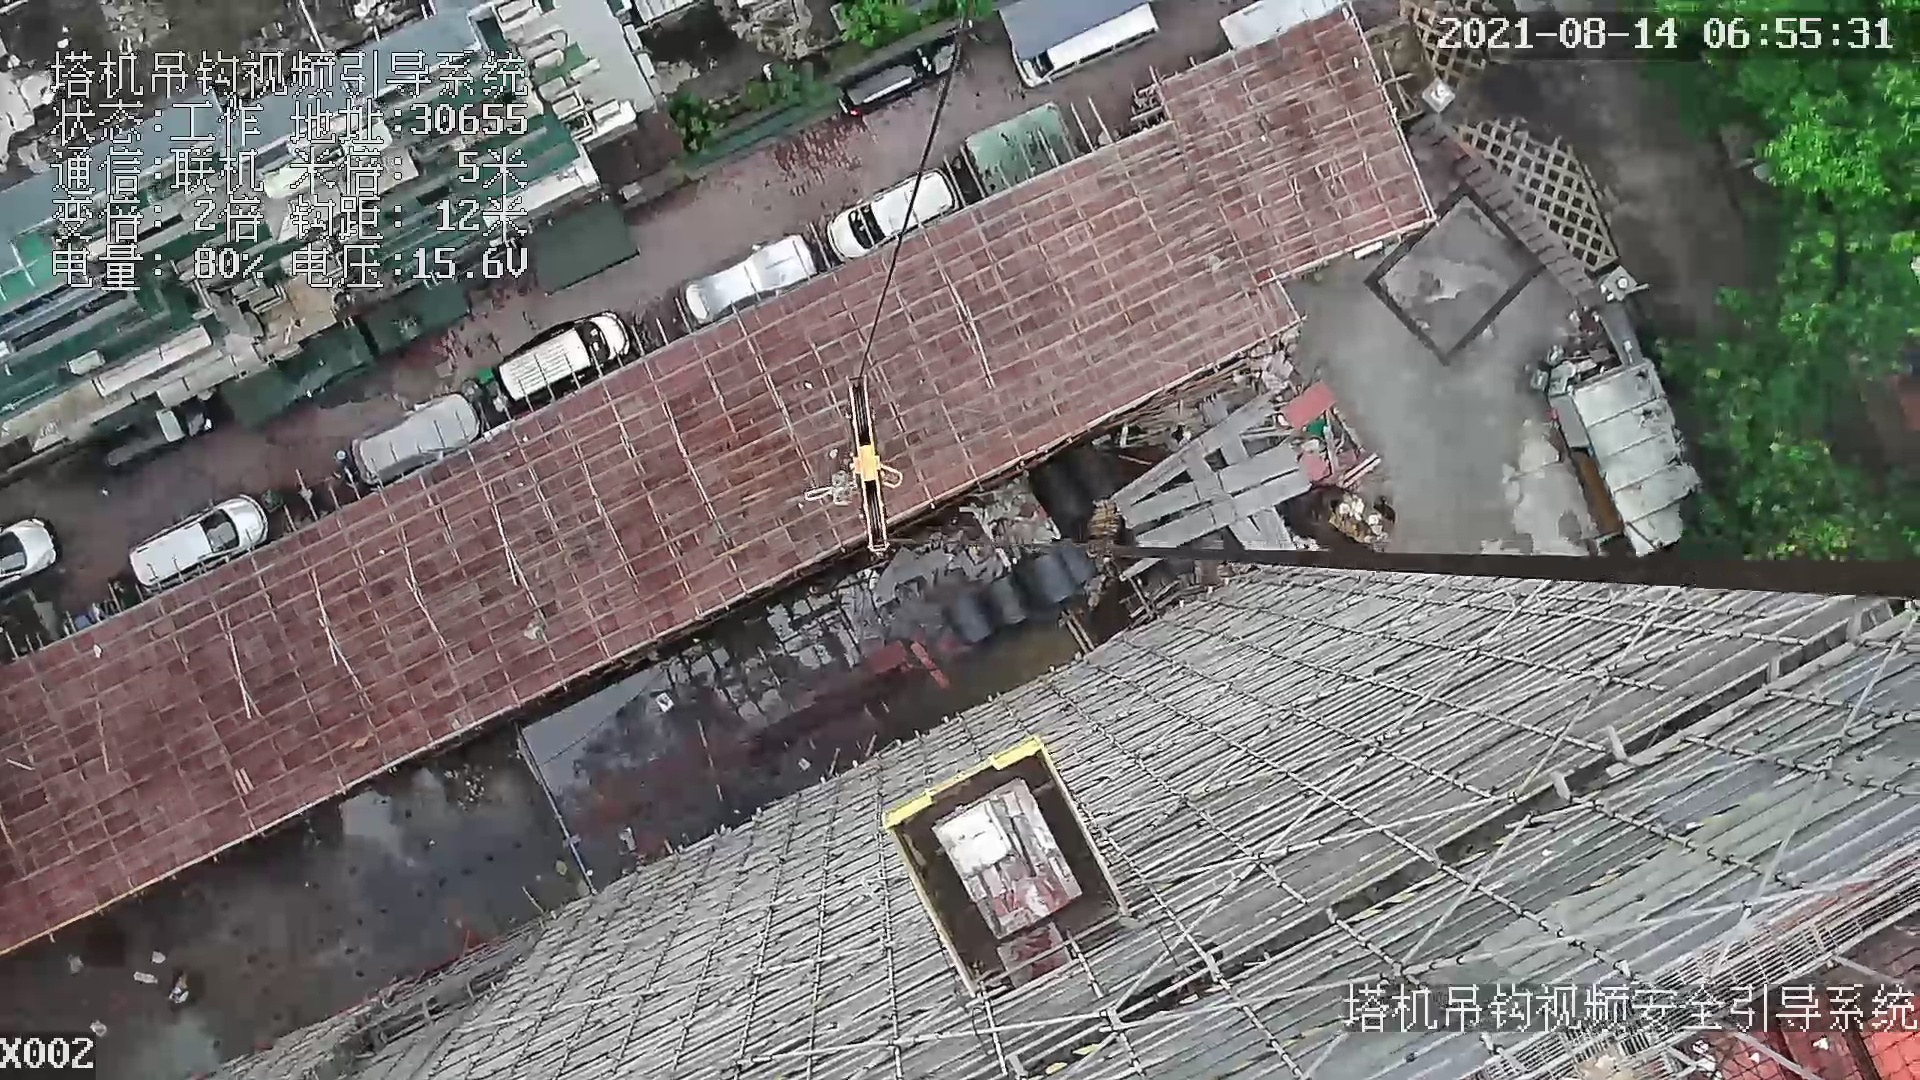board: (931, 775, 1085, 939)
hook: (843, 369, 906, 555)
rebar: (1110, 396, 1276, 512), (1122, 444, 1299, 529), (1135, 468, 1312, 547), (1253, 506, 1296, 550), (1229, 520, 1267, 550)
